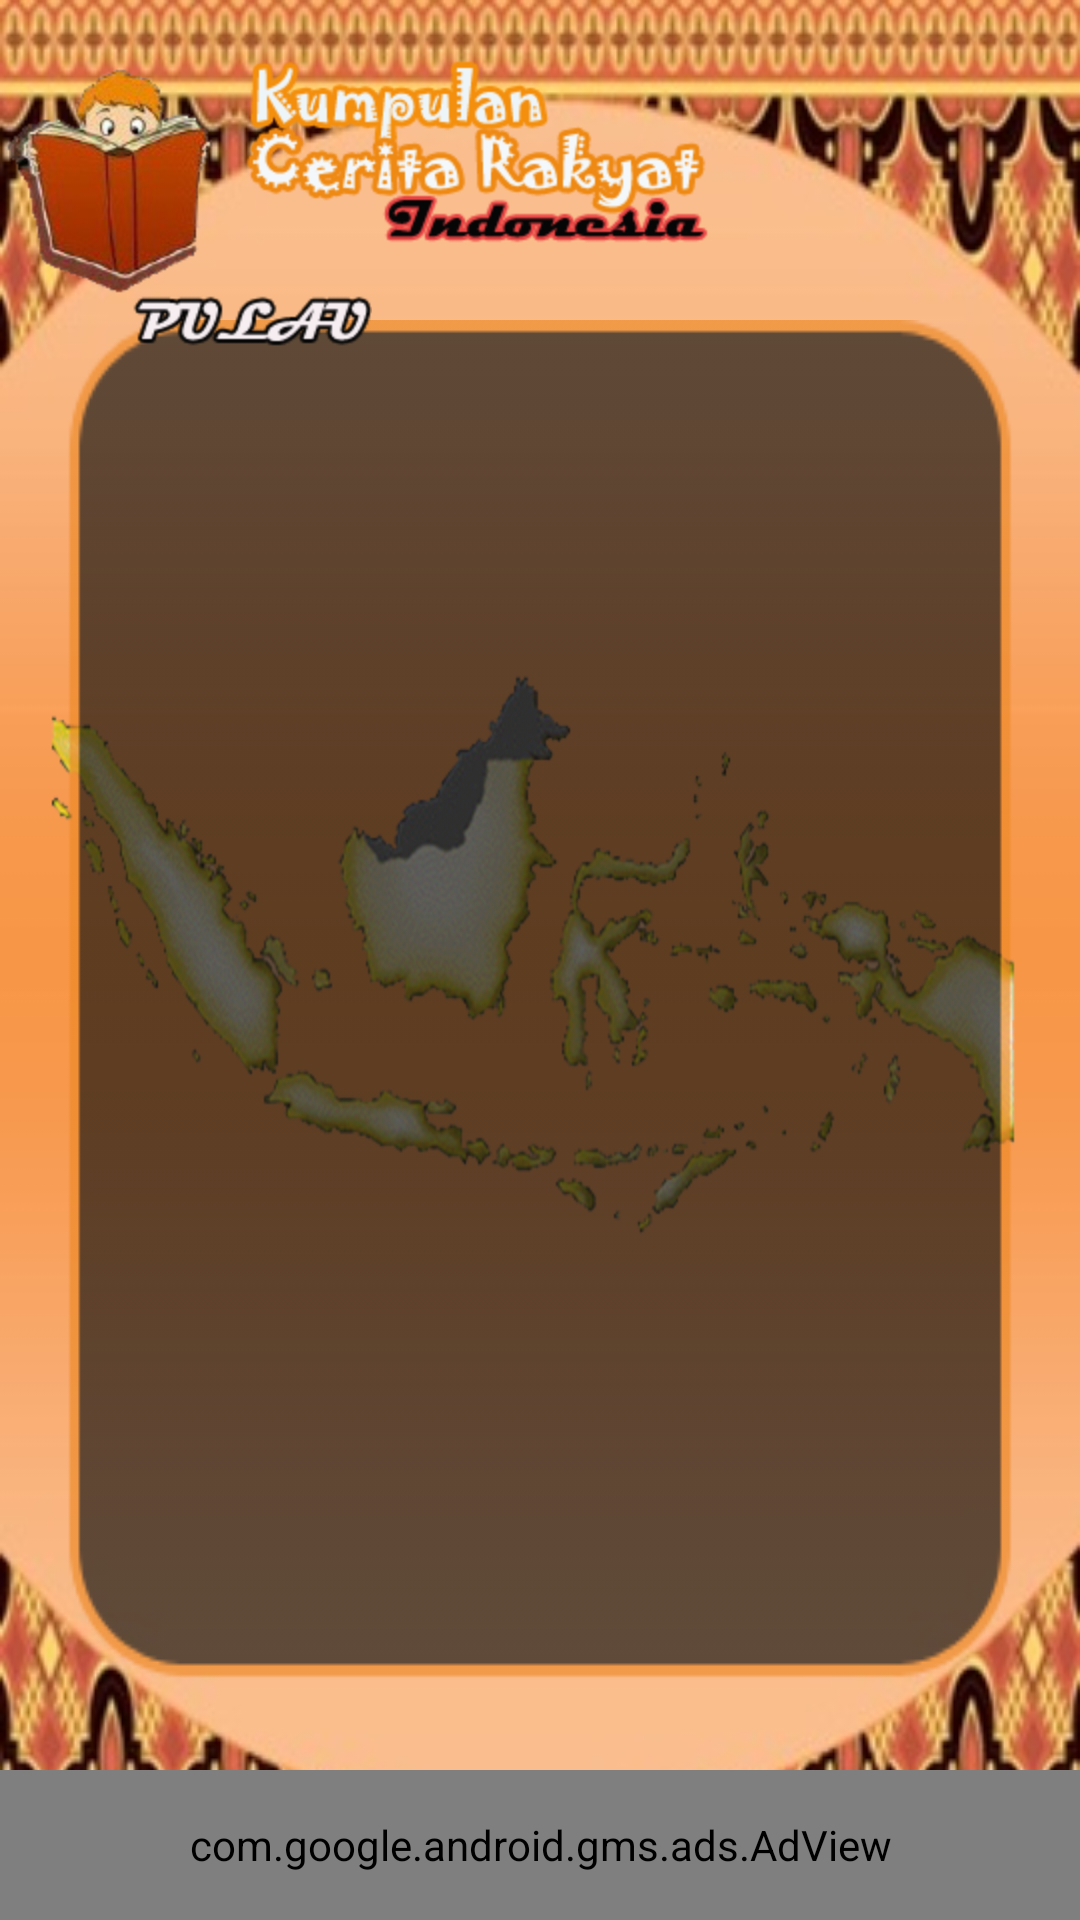

Where to tap for icons on this 1080px×1920px app screen, as (x=x, y=y):
baca: (x=111, y=181)
